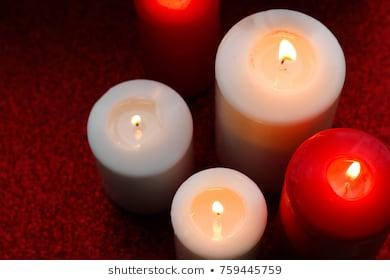fire: (272, 32, 299, 66)
